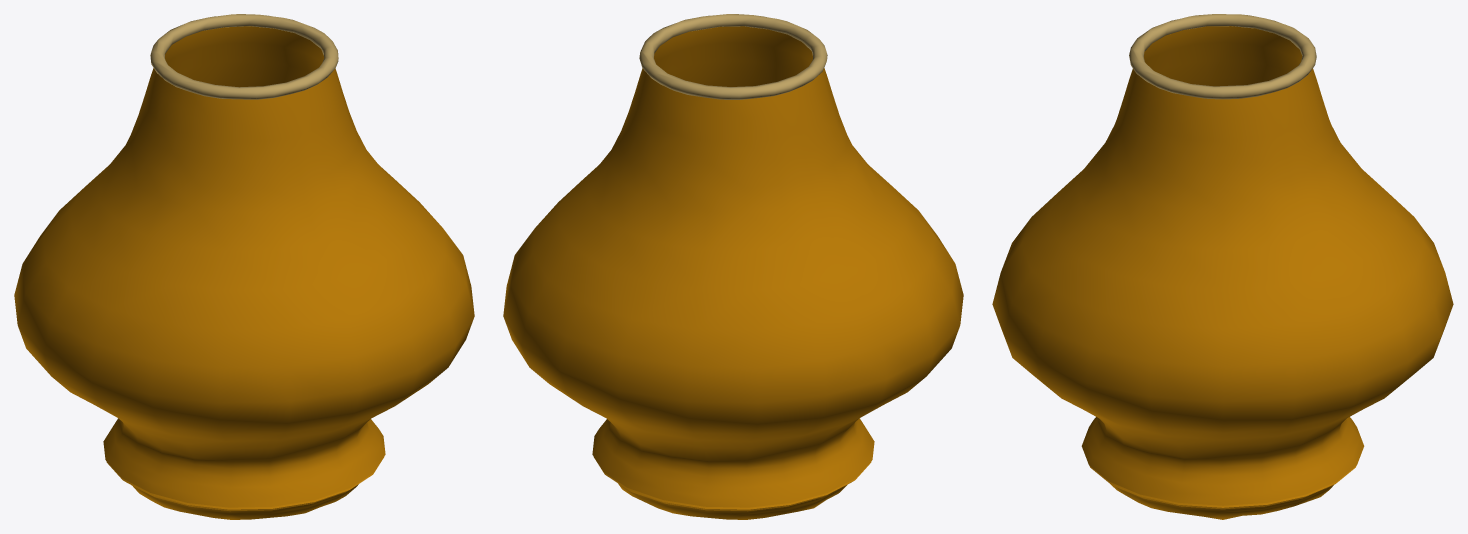
The picture shows the model from 3 angles, left to right: view 1: azimuth 30°, elevation 25°; view 2: azimuth 150°, elevation 25°; view 3: azimuth 270°, elevation 25°; orthographic projection.
Visible parts, largest first — view 1: 2541011; view 2: 2541011; view 3: 2541011.
Part boxes in pixels (bbox=[...]): 2541011: bbox=[14, 14, 474, 519]; 2541011: bbox=[503, 14, 963, 519]; 2541011: bbox=[992, 14, 1453, 519].
Bounding box in the file's own units: 100 × 100 × 100.
